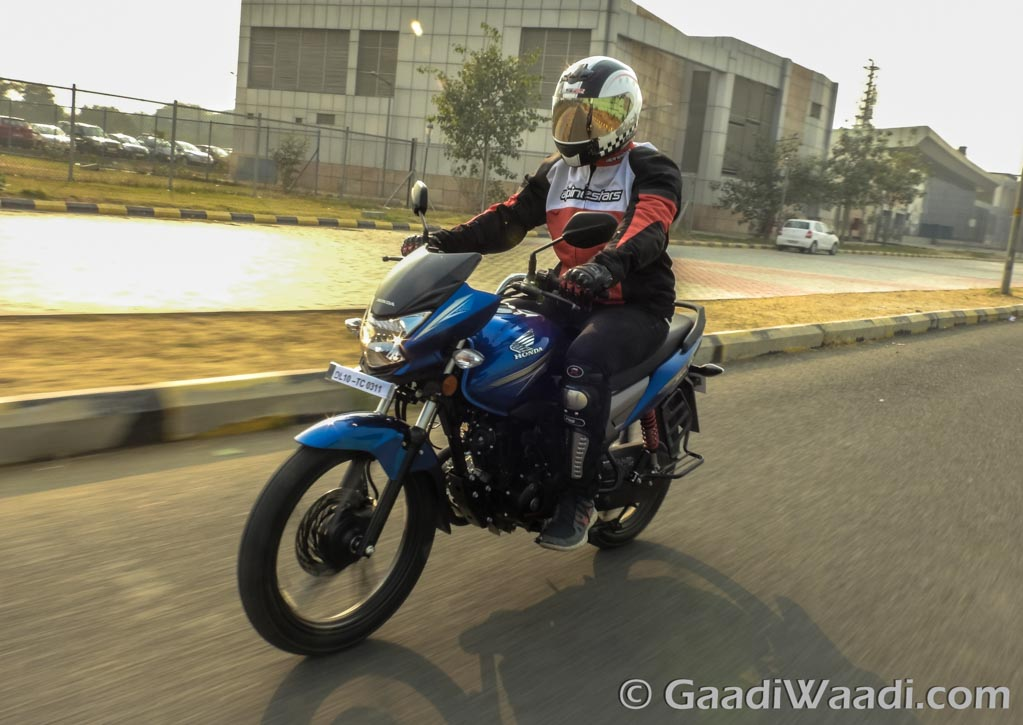helmet: (555, 51, 641, 169)
